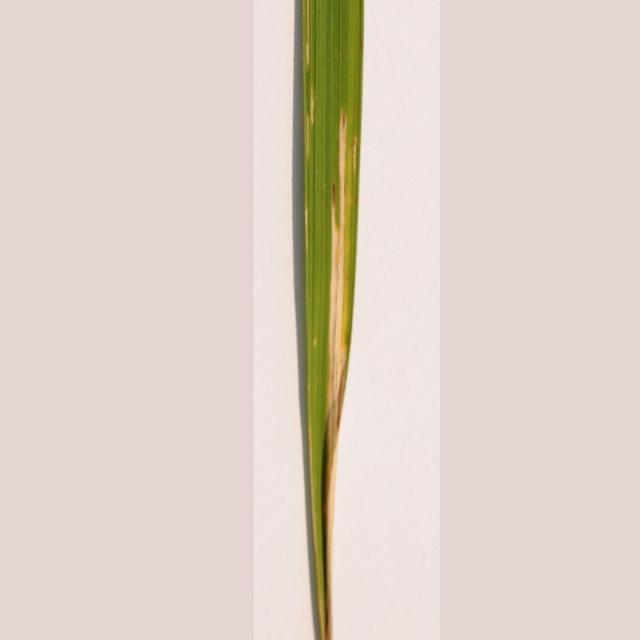leaf blight: (297, 1, 368, 640)
